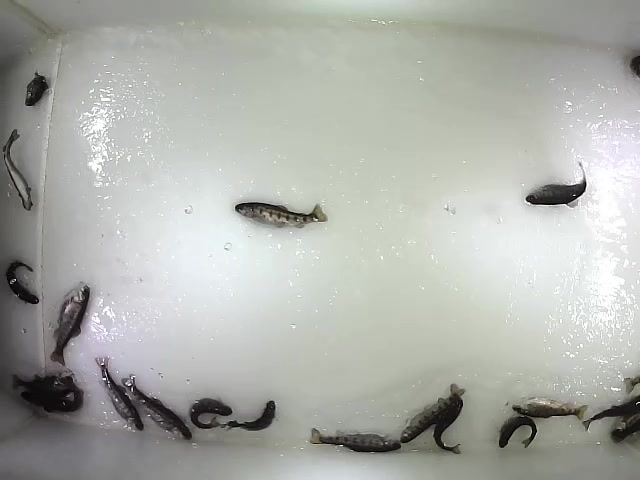fish: (120, 372, 193, 442), (399, 383, 466, 444), (94, 355, 145, 433), (49, 283, 92, 366), (524, 158, 588, 210), (234, 201, 331, 230), (2, 128, 35, 212), (308, 427, 402, 454), (433, 392, 465, 459), (510, 396, 590, 422), (220, 400, 279, 433), (5, 259, 41, 307), (189, 398, 234, 431), (498, 415, 538, 450), (24, 70, 50, 108)
